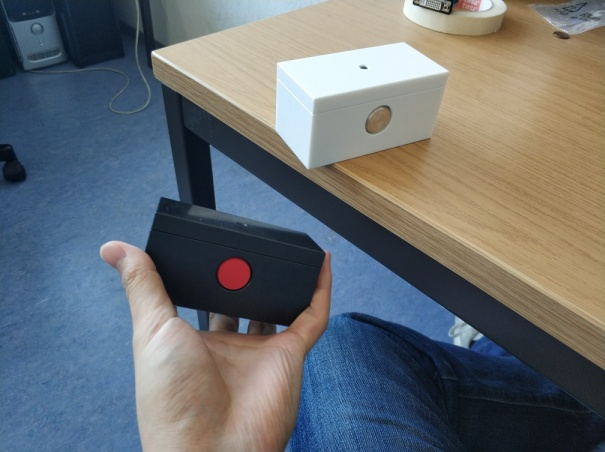black+black+red: (137, 195, 328, 327)
white+white+silver: (273, 40, 451, 171)
